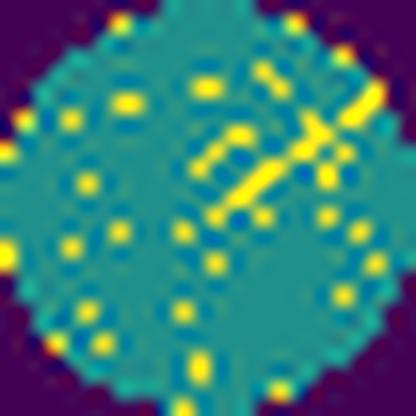Scratch: (198, 110, 341, 232)
